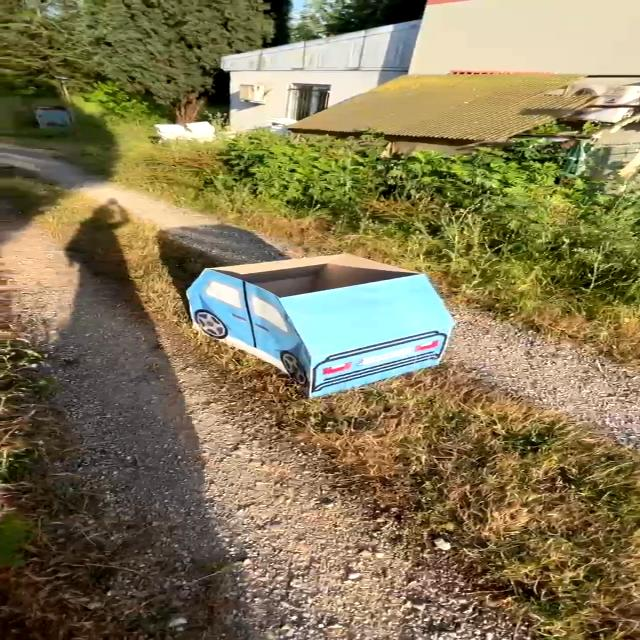blue_car: (91, 233, 510, 398)
